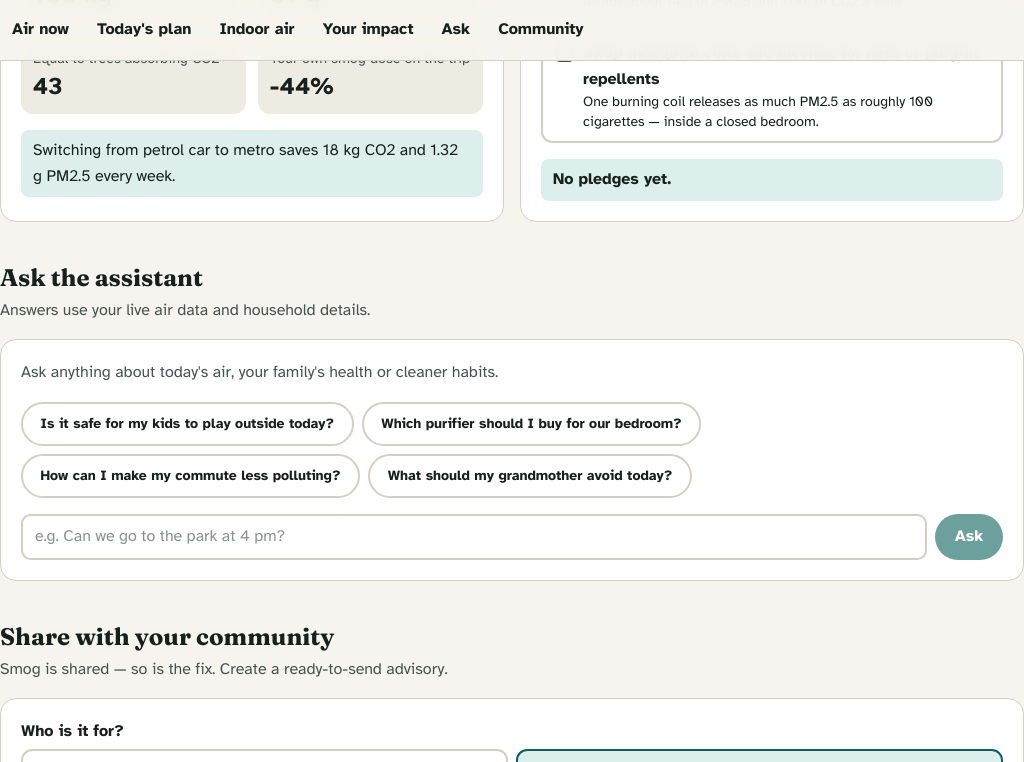
Test case: AskAssistant (inside the dashboard) › streams answers into an accessible log
(page scrolled)
Click the button "Is it safe for my kids to play outside today?". click: (187, 424)
box: [21,402,354,446]
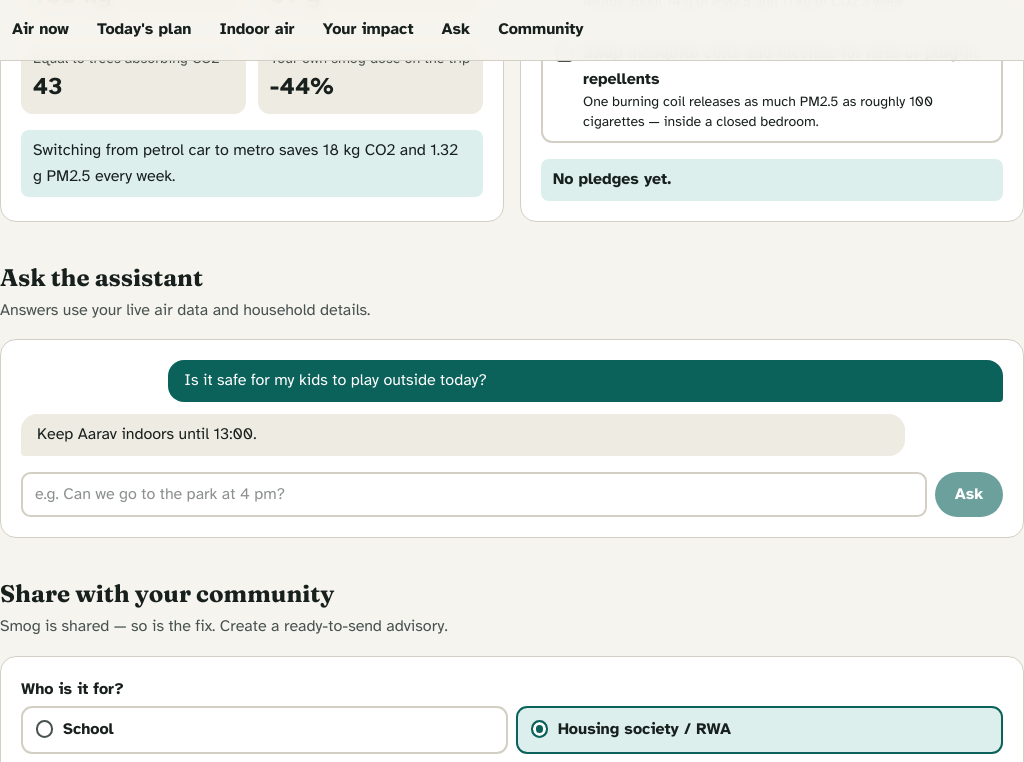
Now the text "Keep Aarav indoors until 13:00." is shown, box [21,414,905,456]
Type "And Dadi?" into the field named "Your question". click: (474, 494)
box: [21,472,927,517]
Then press Enter
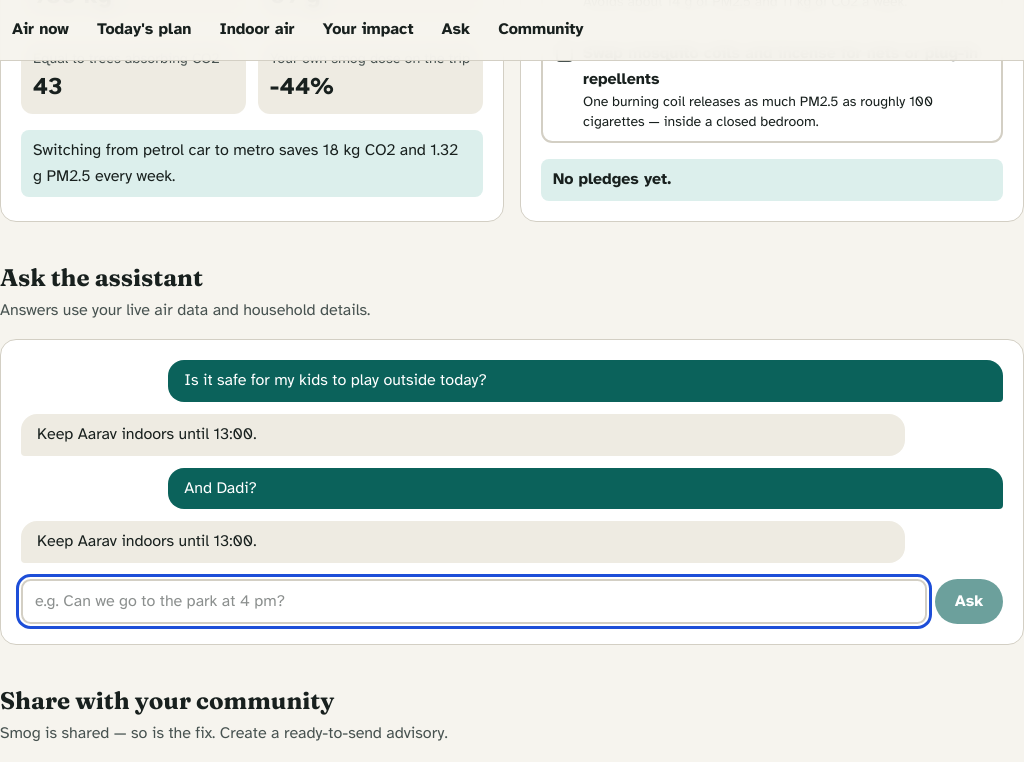
Now the text "Keep Aarav indoors until 13:00." is shown 2 times, box [21,414,905,456]; [21,521,905,563]
